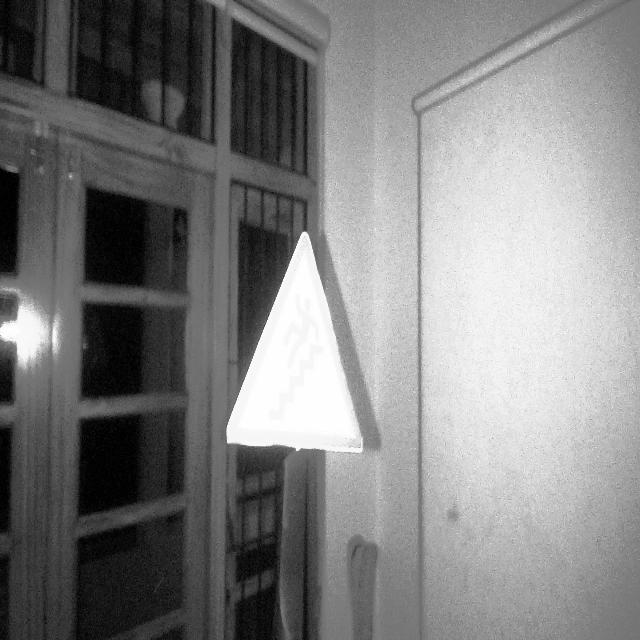Sign: (224, 229, 365, 455)
